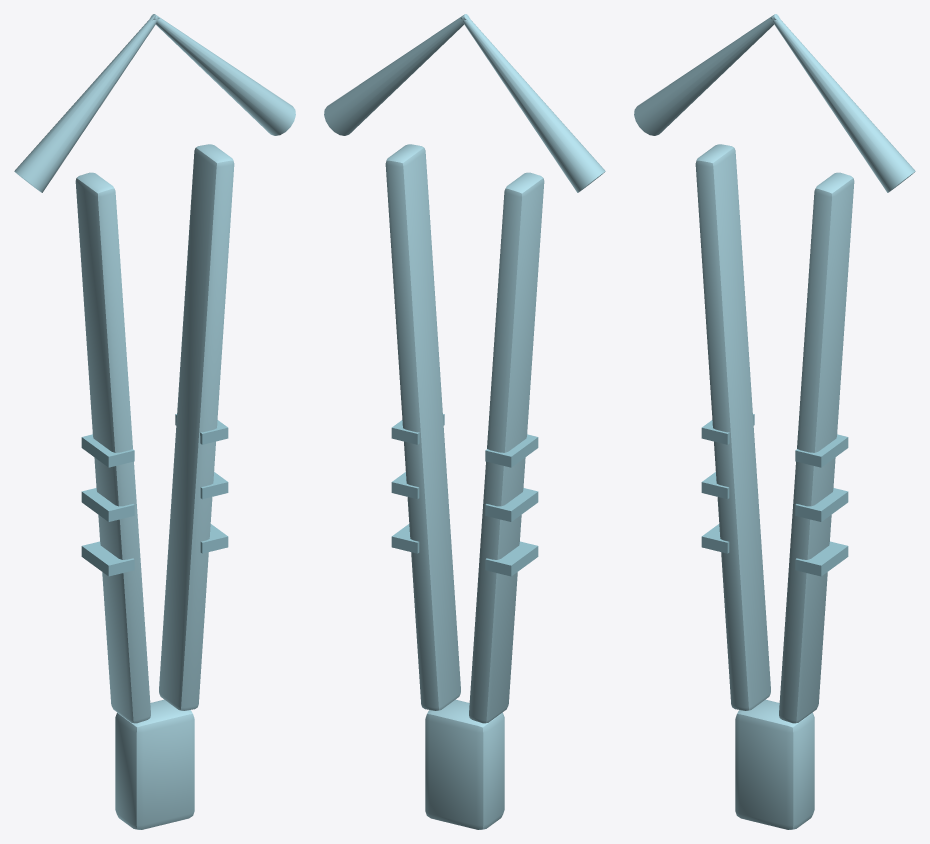
Rendered from precision-angled-tweezers.glb.
3 renders of one model, left to right at view 1: azimuth 30°, elevation 25°; view 2: azimuth 150°, elevation 25°; view 3: azimuth 330°, elevation 25°, orthographic.
Visible parts, largest first — view 1: tweezer_Arm_R, tweezer_Arm_L, tweezer_BaseSpine, tweezer_Tip_L, tweezer_Tip_R, tweezer_GripRib_-1_0, tweezer_GripRib_-1_1, tweezer_GripRib_-1_2; view 2: tweezer_Arm_R, tweezer_Arm_L, tweezer_BaseSpine, tweezer_Tip_L, tweezer_Tip_R, tweezer_GripRib_-1_0, tweezer_GripRib_-1_1, tweezer_GripRib_-1_2; view 3: tweezer_Arm_L, tweezer_Arm_R, tweezer_BaseSpine, tweezer_Tip_R, tweezer_Tip_L, tweezer_GripRib_1_0, tweezer_GripRib_1_1, tweezer_GripRib_1_2.
Boxes of the visible parts, bbox=[...] form: tweezer_Arm_R: bbox=[159, 144, 234, 710]; tweezer_Arm_L: bbox=[75, 172, 150, 723]; tweezer_BaseSpine: bbox=[115, 699, 194, 829]; tweezer_Tip_L: bbox=[14, 14, 159, 192]; tweezer_Tip_R: bbox=[150, 14, 295, 135]; tweezer_GripRib_-1_0: bbox=[81, 541, 134, 576]; tweezer_GripRib_-1_1: bbox=[81, 488, 134, 521]; tweezer_GripRib_-1_2: bbox=[81, 434, 134, 467]; tweezer_Arm_R: bbox=[385, 144, 460, 710]; tweezer_Arm_L: bbox=[469, 172, 544, 723]; tweezer_BaseSpine: bbox=[425, 699, 504, 829]; tweezer_Tip_L: bbox=[460, 14, 605, 192]; tweezer_Tip_R: bbox=[324, 14, 469, 135]; tweezer_GripRib_-1_0: bbox=[485, 541, 538, 576]; tweezer_GripRib_-1_1: bbox=[485, 488, 538, 521]; tweezer_GripRib_-1_2: bbox=[485, 434, 538, 467]; tweezer_Arm_L: bbox=[695, 144, 770, 710]; tweezer_Arm_R: bbox=[779, 172, 854, 723]; tweezer_BaseSpine: bbox=[735, 699, 814, 829]; tweezer_Tip_R: bbox=[770, 14, 915, 192]; tweezer_Tip_L: bbox=[634, 14, 779, 135]; tweezer_GripRib_1_0: bbox=[795, 541, 848, 576]; tweezer_GripRib_1_1: bbox=[795, 488, 848, 521]; tweezer_GripRib_1_2: bbox=[795, 434, 848, 467].
Bounding box in the file's own units: 0.053 × 0.1478 × 0.009.
